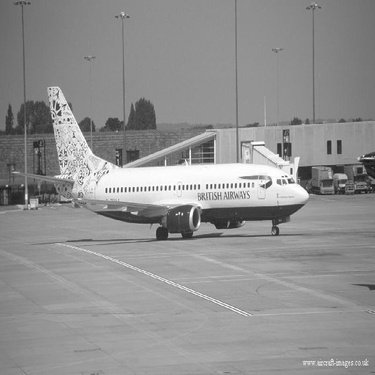airplane: (9, 77, 314, 247)
